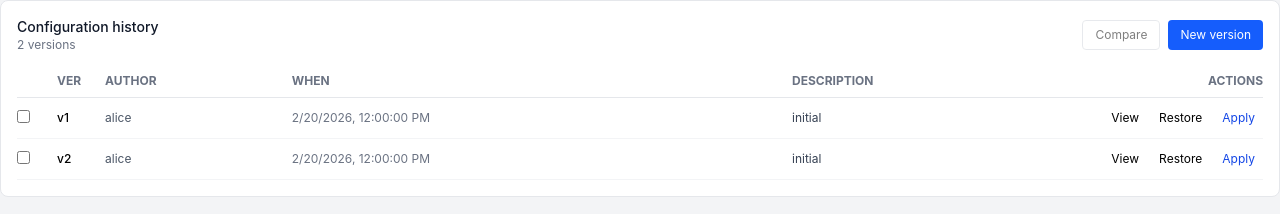
Test: DeviceConfigSection › keeps Compare disabled until exactly two versions are selected
Expected: the text "v1" is shown, x1=57 y1=98 x2=105 y2=138
Expected: the button "Compare" is disabled, x1=1082 y1=20 x2=1160 y2=50
Click the checkbox named "Compare v1" at (24, 116), box x1=17 y1=110 x2=30 y2=123
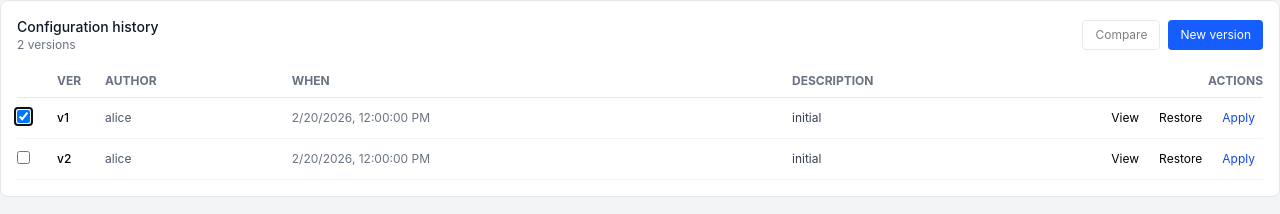
Expected: the button "Compare" is disabled, x1=1082 y1=20 x2=1160 y2=50
Click the checkbox named "Compare v2" at (24, 158), box x1=17 y1=151 x2=30 y2=164
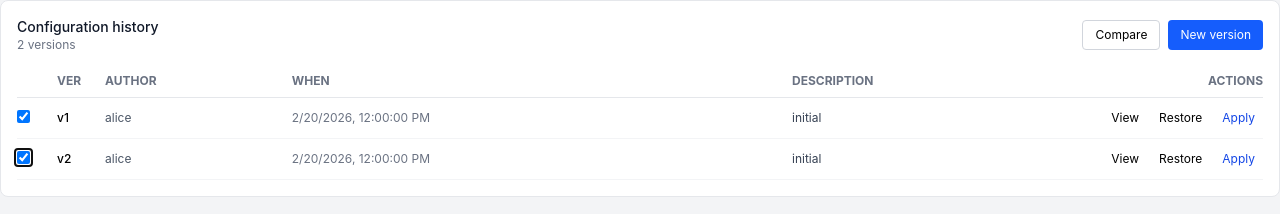
Expected: the button "Compare" is enabled, x1=1082 y1=20 x2=1160 y2=50
